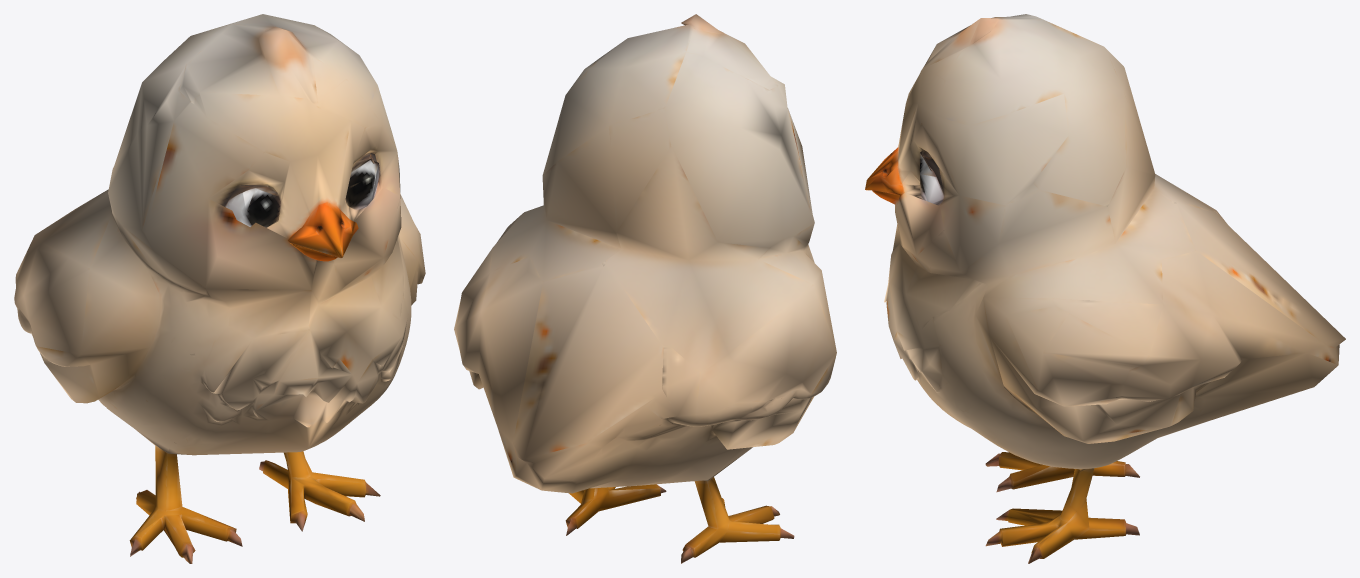
Rendered from lifecycle_chicken_baby.glb.
The picture shows the model from 3 angles, left to right: view 1: azimuth 30°, elevation 25°; view 2: azimuth 150°, elevation 25°; view 3: azimuth 270°, elevation 25°; orthographic projection. The views are drawn at different scales.
Visible parts, largest first — view 1: node_0; view 2: node_0; view 3: node_0.
Part boxes in pixels (x1=…): node_0: x1=14, y1=14, x2=425, y2=563; node_0: x1=454, y1=14, x2=836, y2=563; node_0: x1=865, y1=14, x2=1345, y2=563.
Size of the model in its own units: 0.7627 by 1.04 by 0.9222.
1 material, 1 textured.
